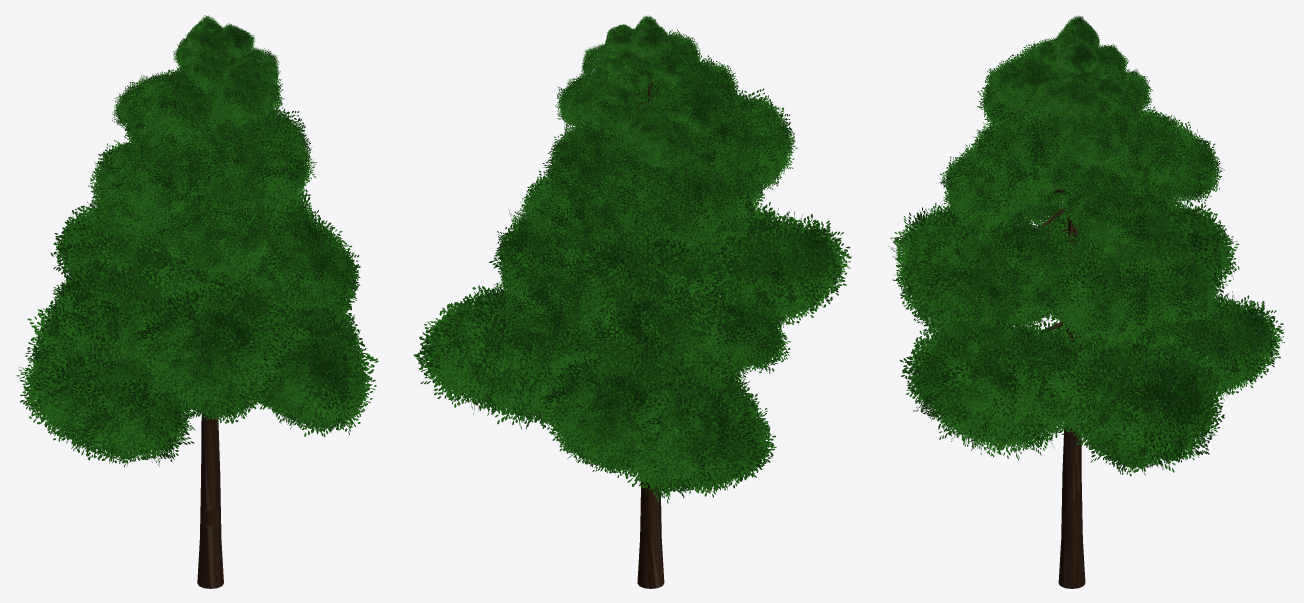
The model's file is tree 3.fbx.
3 renders of one model, left to right at view 1: azimuth 30°, elevation 25°; view 2: azimuth 150°, elevation 25°; view 3: azimuth 270°, elevation 25°, orthographic.
Visible parts, largest first — view 1: NurbsPath.015; view 2: NurbsPath.015; view 3: NurbsPath.015.
Part boxes in pixels (x1,y1,x2,y2): NurbsPath.015: (16, 15, 378, 588); NurbsPath.015: (413, 15, 851, 588); NurbsPath.015: (888, 15, 1284, 588).
Size of the model in its own units: 602 by 981 by 632.
